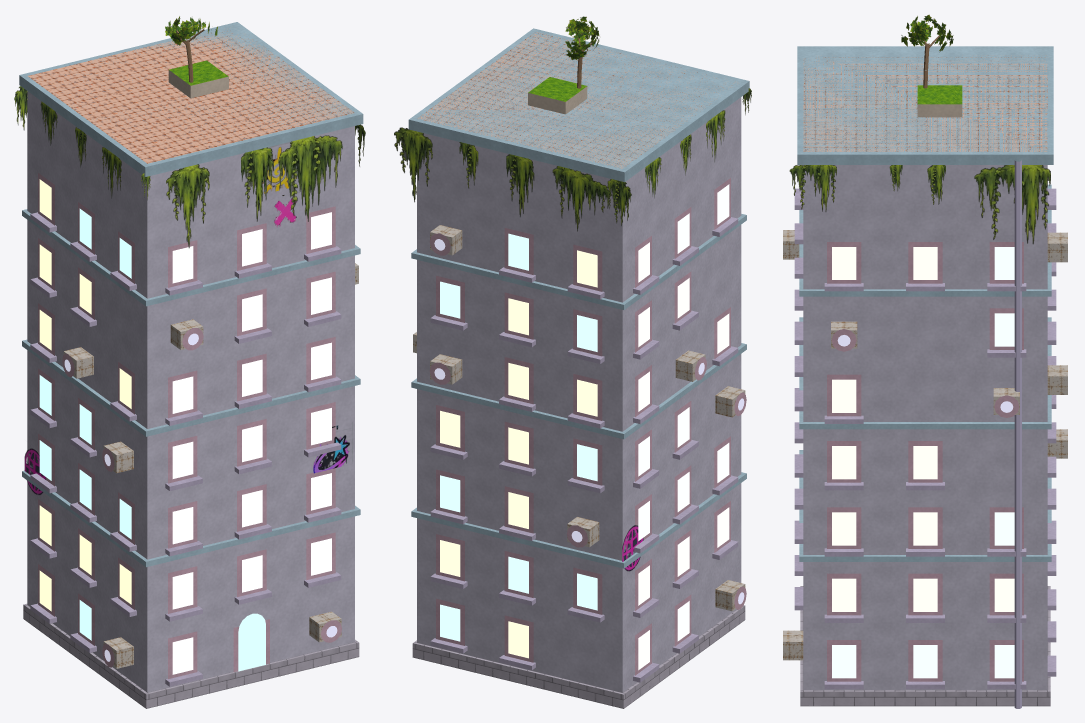
File: BUILDING_09.glb
3 renders of one model, left to right at view 1: azimuth 30°, elevation 25°; view 2: azimuth 150°, elevation 25°; view 3: azimuth 270°, elevation 25°, orthographic. The views are drawn at different scales.
Parts seen in each view (by area): view 1: B_AS_09_Skin, B_AS_09_Moss, BUILDING_09_Trees; view 2: B_AS_09_Skin, B_AS_09_Moss, BUILDING_09_Trees; view 3: B_AS_09_Skin, B_AS_09_Moss, BUILDING_09_Trees.
Boxes of the visible parts, x1,y1,x2,y2 form: B_AS_09_Skin: (19,22,363,708); B_AS_09_Moss: (14,86,365,248); BUILDING_09_Trees: (165,16,217,82); B_AS_09_Skin: (408,28,749,708); B_AS_09_Moss: (394,88,751,231); BUILDING_09_Trees: (565,16,599,88); B_AS_09_Skin: (783,46,1067,708); B_AS_09_Moss: (789,165,1050,244); BUILDING_09_Trees: (901,14,953,88).
Size of the model in its own units: 14.34 by 34.44 by 14.28.
14 materials, 9 textured.
